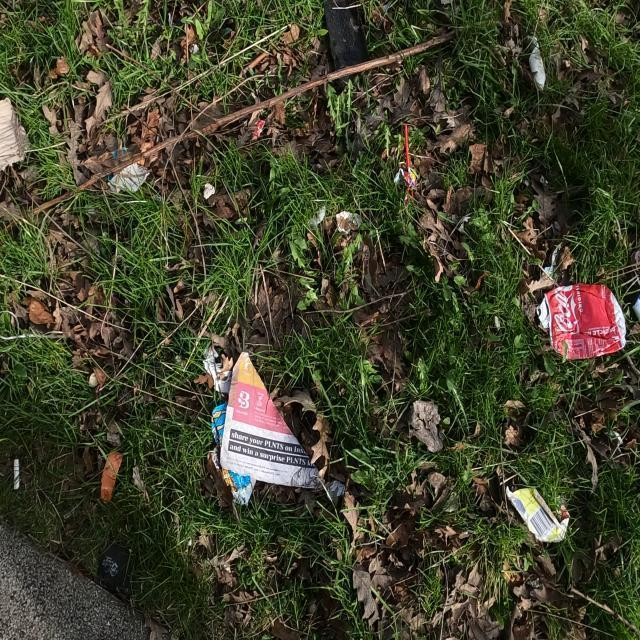Can-Metal: (535, 282, 627, 362)
Paper: (505, 484, 571, 543)
